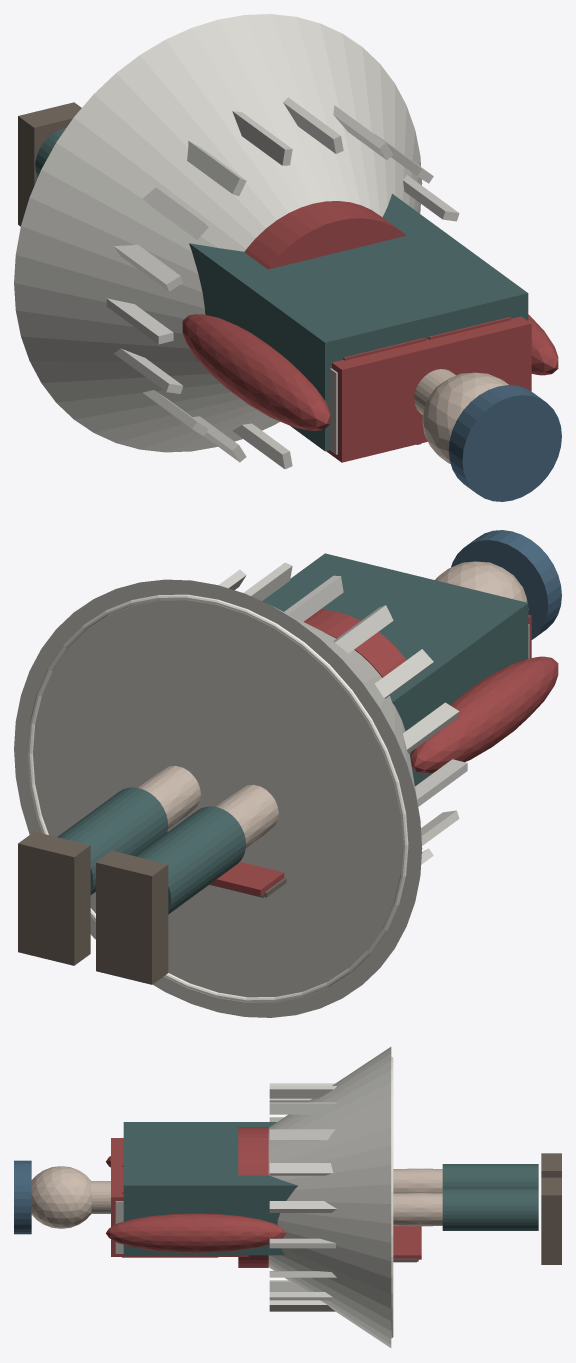
Rendered from MASTER_017_STAGE3_DETAIL.glb.
The picture shows the model from 3 angles, top to bottom: view 1: azimuth 30°, elevation 25°; view 2: azimuth 150°, elevation 25°; view 3: azimuth 270°, elevation 25°; orthographic projection. The views are drawn at different scales.
Visible parts, largest first — view 1: slot_lower_main__fustanellë, slot_outerwear__xhokë/xhulia, slot_upper_inner__këmishë, slot_headwear__mbulesë_koke, slot_upper_inner_sleeve_L, slot_waist__brez, mannequin_head, slot_footwear__opinga_L, slot_pleat__09, slot_pleat__06, slot_pleat__07, slot_pleat__08 (+11 smaller); view 2: slot_lower_main__fustanellë, slot_outerwear__xhokë/xhulia, slot_footwear__opinga_R, slot_footwear__opinga_L, slot_upper_inner_sleeve_L, detail_fustanella_hem, slot_legwear__çorape_L, slot_legwear__çorape_R, slot_headwear__mbulesë_koke, slot_waist__brez, mannequin_leg_R, mannequin_leg_L (+9 smaller); view 3: slot_lower_main__fustanellë, slot_outerwear__xhokë/xhulia, slot_upper_inner_sleeve_R, slot_legwear__çorape_R, mannequin_head, slot_legwear__çorape_L, slot_waist__brez, slot_footwear__opinga_R, mannequin_leg_R, slot_headwear__mbulesë_koke, mannequin_leg_L, slot_upper_inner__këmishë (+13 smaller).
Part boxes in pixels (bbox=[...]): slot_lower_main__fustanellë: bbox=[14, 14, 422, 452]; slot_outerwear__xhokë/xhulia: bbox=[189, 194, 528, 451]; slot_upper_inner__këmishë: bbox=[326, 316, 531, 462]; slot_headwear__mbulesë_koke: bbox=[448, 385, 561, 501]; slot_upper_inner_sleeve_L: bbox=[182, 314, 330, 430]; slot_waist__brez: bbox=[244, 201, 406, 269]; mannequin_head: bbox=[422, 372, 508, 463]; slot_footwear__opinga_L: bbox=[18, 102, 81, 226]; slot_pleat__09: bbox=[114, 244, 183, 291]; slot_pleat__06: bbox=[232, 111, 292, 165]; slot_pleat__07: bbox=[187, 141, 246, 196]; slot_pleat__08: bbox=[142, 187, 208, 239]; slot_lower_main__fustanellë: bbox=[14, 579, 422, 1017]; slot_outerwear__xhokë/xhulia: bbox=[262, 553, 528, 786]; slot_footwear__opinga_R: bbox=[18, 831, 90, 965]; slot_footwear__opinga_L: bbox=[96, 850, 168, 984]; slot_upper_inner_sleeve_L: bbox=[410, 656, 558, 773]; detail_fustanella_hem: bbox=[27, 594, 408, 1002]; slot_legwear__çorape_L: bbox=[135, 806, 245, 914]; slot_legwear__çorape_R: bbox=[57, 787, 167, 894]; slot_headwear__mbulesë_koke: bbox=[451, 530, 561, 639]; slot_waist__brez: bbox=[304, 609, 406, 677]; mannequin_leg_R: bbox=[137, 765, 200, 828]; mannequin_leg_L: bbox=[215, 784, 278, 848]; slot_lower_main__fustanellë: bbox=[268, 1047, 391, 1347]; slot_outerwear__xhokë/xhulia: bbox=[123, 1122, 297, 1255]; slot_upper_inner_sleeve_R: bbox=[106, 1213, 285, 1252]; slot_legwear__çorape_R: bbox=[442, 1188, 538, 1230]; mannequin_head: bbox=[31, 1166, 91, 1228]; slot_legwear__çorape_L: bbox=[442, 1164, 538, 1188]; slot_waist__brez: bbox=[238, 1127, 268, 1267]; slot_footwear__opinga_R: bbox=[541, 1177, 561, 1264]; mannequin_leg_R: bbox=[393, 1193, 442, 1226]; slot_headwear__mbulesë_koke: bbox=[14, 1160, 31, 1234]; mannequin_leg_L: bbox=[393, 1168, 442, 1193]; slot_upper_inner__këmishë: bbox=[111, 1138, 248, 1256].
Bounding box in the file's own units: 0.9435 × 0.9435 × 1.71.
